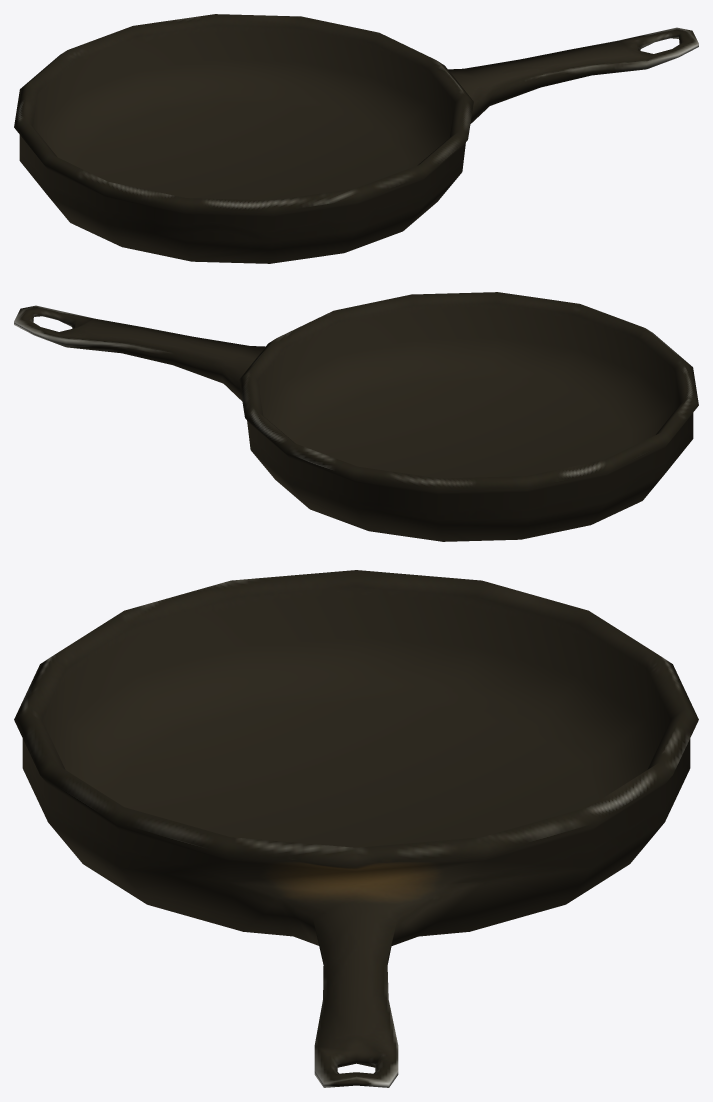
The model's file is Pan_A.fbx.
3 views of the same model, one above another, from view 1: azimuth 30°, elevation 25°; view 2: azimuth 150°, elevation 25°; view 3: azimuth 270°, elevation 25° (orthographic). The views are drawn at different scales.
Parts seen in each view (by area): view 1: U_Pan_A; view 2: U_Pan_A; view 3: U_Pan_A.
Boxes of the visible parts, x1,y1,x2,y2 form: U_Pan_A: (14, 14, 698, 263); U_Pan_A: (14, 292, 698, 541); U_Pan_A: (14, 570, 698, 1087).
Size of the model in its own units: 89.34 by 10.08 by 55.24.
1 material, 1 textured.
